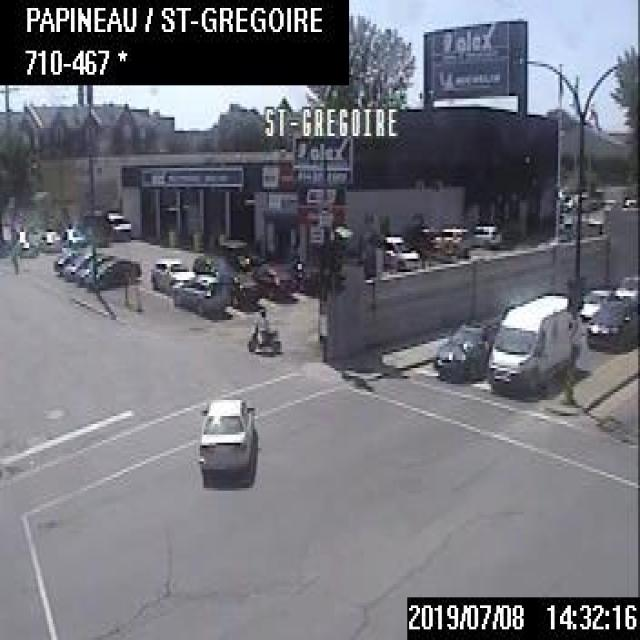vehicle: (487, 291, 574, 397), (195, 389, 252, 480), (434, 315, 498, 384), (172, 268, 229, 320), (583, 300, 638, 352), (86, 256, 141, 293), (244, 307, 284, 357), (250, 263, 294, 302), (149, 258, 194, 294), (381, 234, 424, 266), (430, 225, 468, 258), (577, 284, 611, 320), (225, 271, 258, 308), (75, 252, 105, 285), (63, 251, 92, 282), (469, 221, 502, 248), (190, 252, 227, 275), (614, 270, 638, 301), (36, 230, 60, 251)
